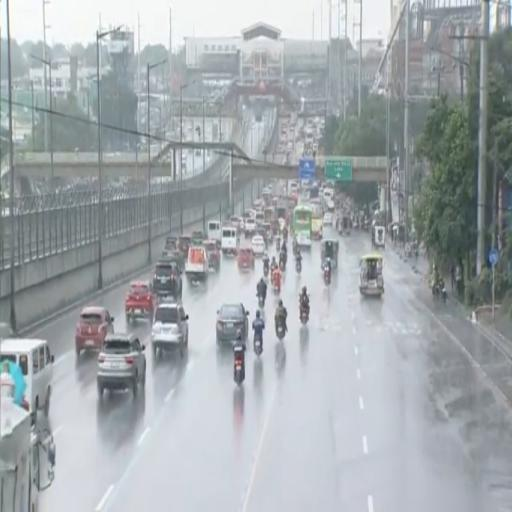bus: (292, 205, 312, 247), (310, 199, 323, 239)
car: (97, 333, 146, 396), (152, 302, 188, 357), (75, 307, 113, 356), (216, 303, 248, 345), (125, 281, 155, 322), (153, 259, 182, 299), (185, 245, 208, 282), (203, 239, 220, 270), (237, 248, 255, 269), (252, 235, 266, 255), (179, 235, 191, 258), (0, 323, 15, 340), (245, 218, 256, 234), (192, 231, 204, 245), (324, 213, 333, 226)
motorcycle: (233, 345, 245, 386), (432, 282, 447, 303), (300, 303, 308, 325), (254, 335, 262, 357), (277, 320, 285, 340), (278, 253, 286, 272), (324, 266, 330, 285), (273, 280, 280, 294), (257, 294, 264, 308), (264, 263, 269, 278), (296, 260, 301, 274), (276, 237, 280, 251)
truck: (0, 396, 55, 511), (312, 217, 323, 239)
